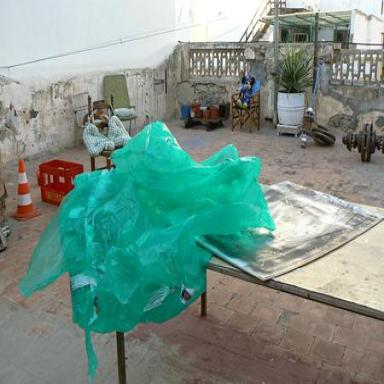plasticbag: (18, 117, 383, 345)
